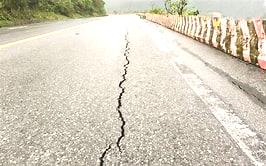ROAD_CRACK: (27, 65, 242, 141)
